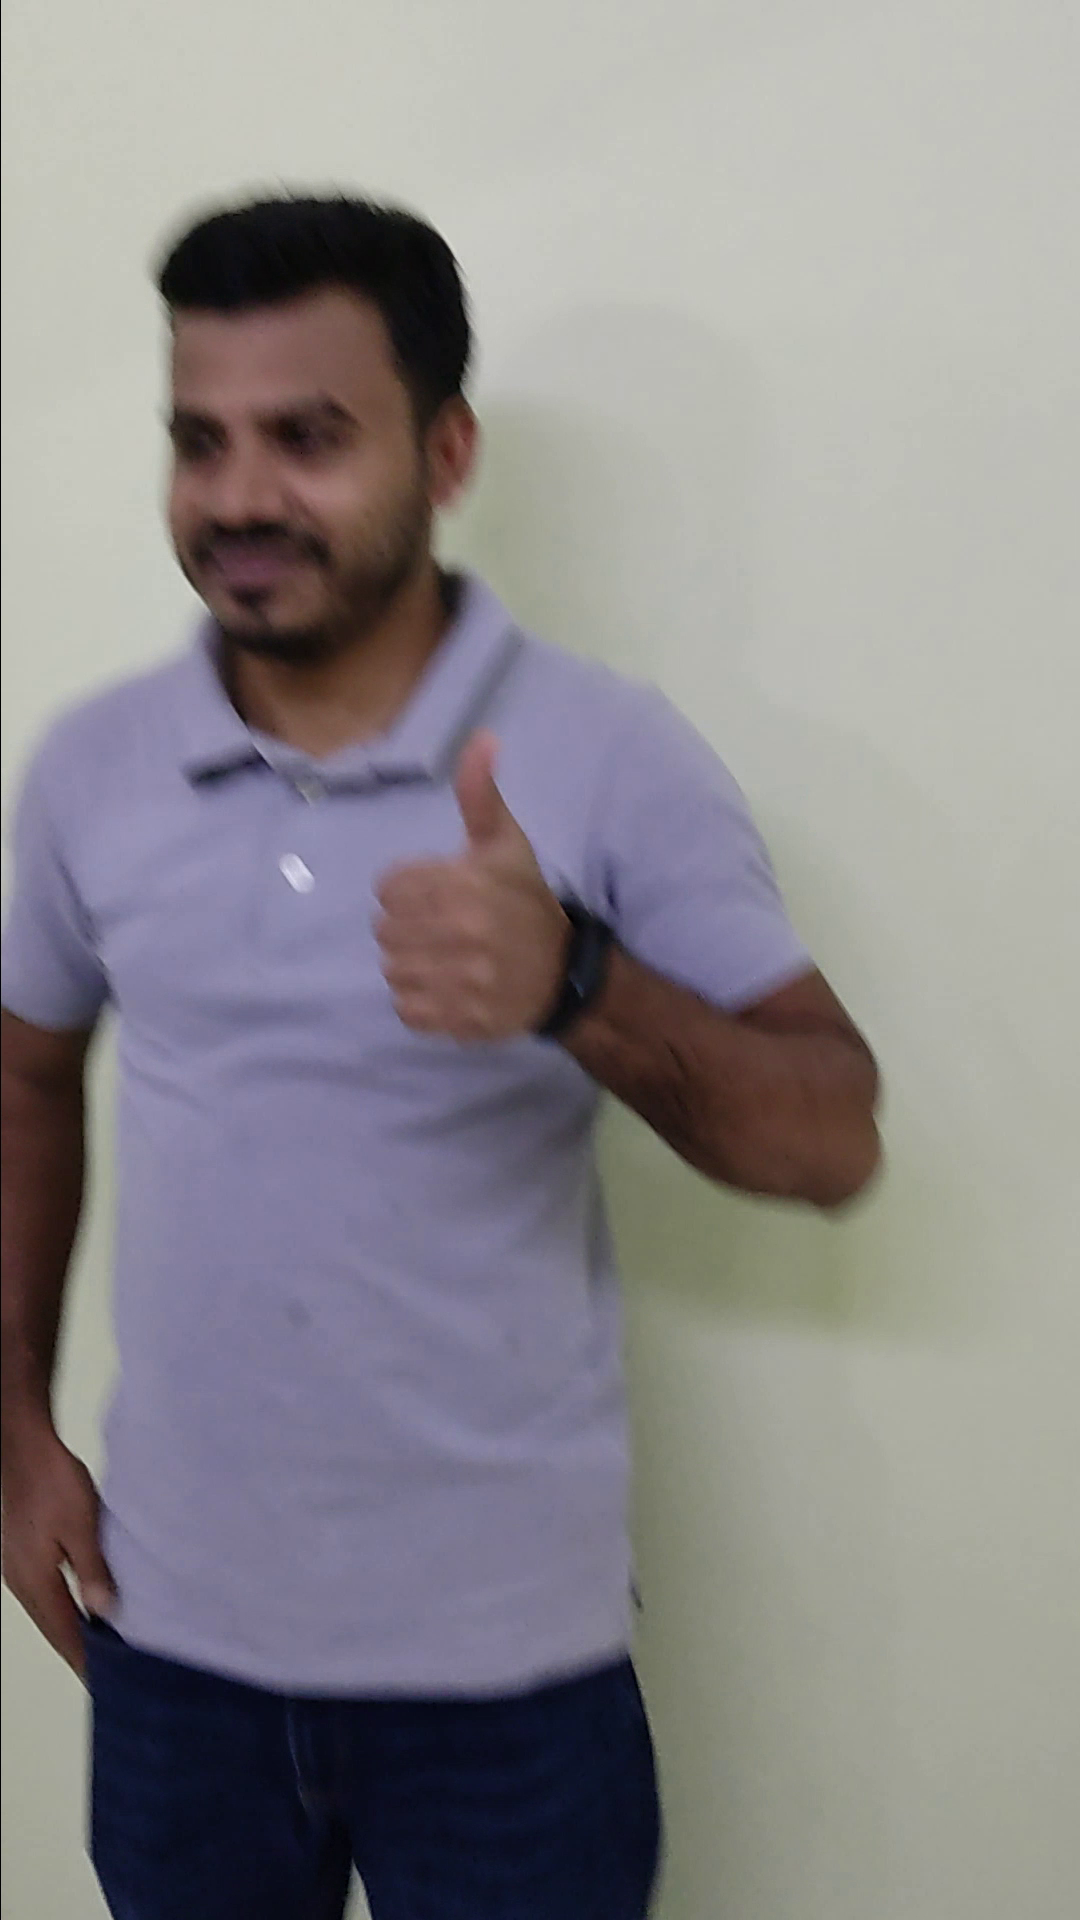Like: (367, 721, 607, 1060)
None: (3, 1408, 128, 1691)
